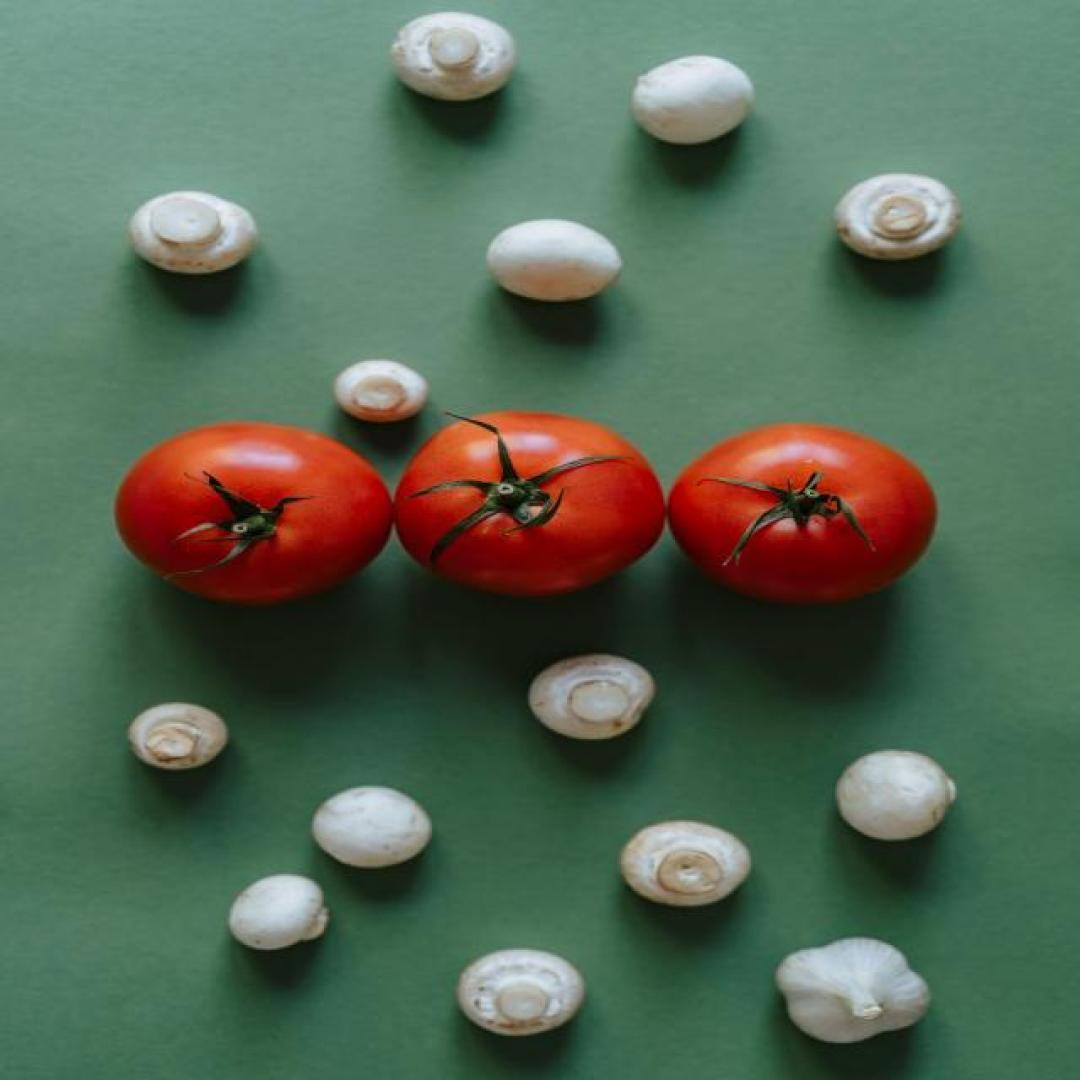matang: (115, 422, 393, 611), (395, 412, 663, 599), (665, 424, 936, 606)
